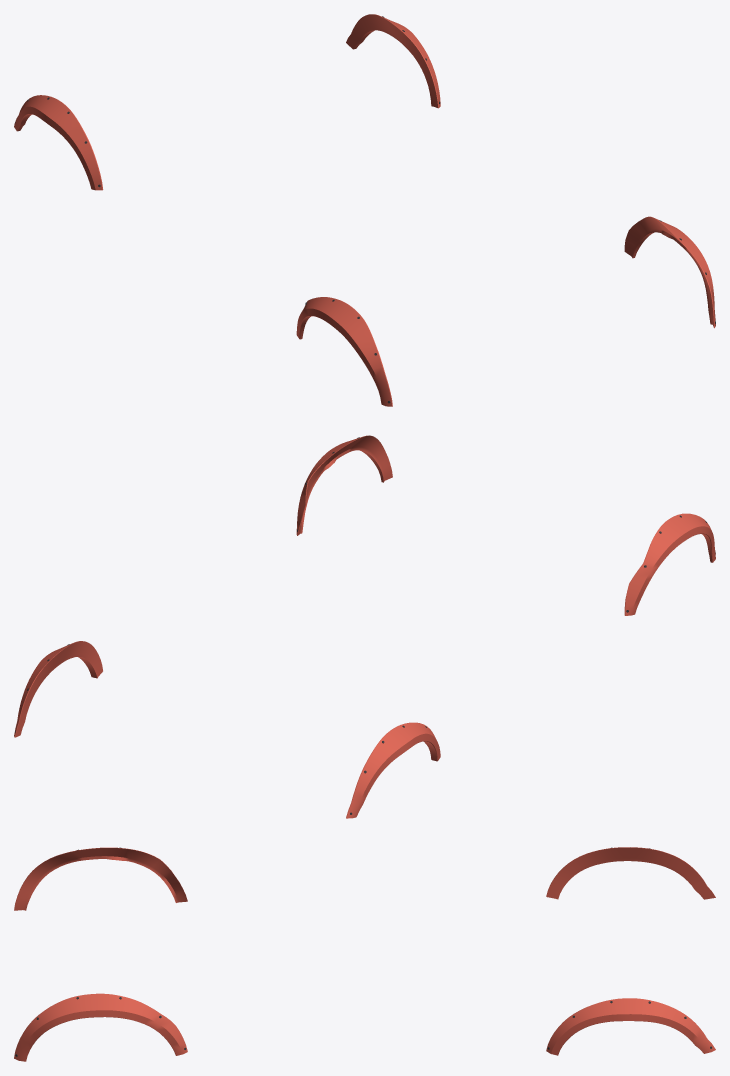
File: nakayaGrove_fenders_overMild.glb
3 renders of one model, top to bottom at view 1: azimuth 30°, elevation 25°; view 2: azimuth 150°, elevation 25°; view 3: azimuth 270°, elevation 25°, orthographic. The views are drawn at different scales.
Visible parts, largest first — view 1: fenders_overMild; view 2: fenders_overMild; view 3: fenders_overMild.
Boxes of the visible parts, bbox=[...] form: fenders_overMild: bbox=[14, 14, 715, 406]; fenders_overMild: bbox=[14, 435, 715, 818]; fenders_overMild: bbox=[14, 847, 715, 1061].
Bounding box in the file's own units: 1.84 × 0.3358 × 3.29.
